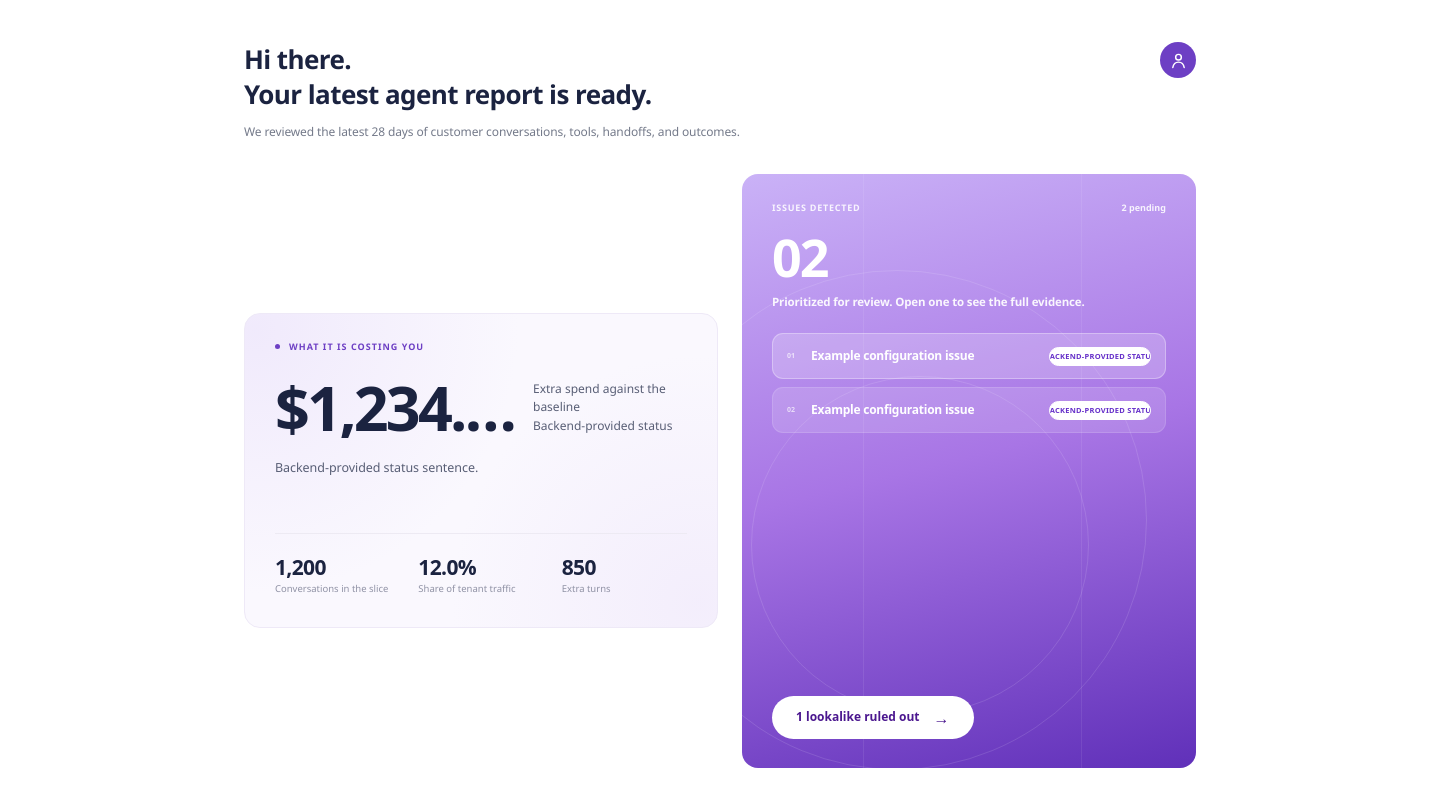
Test case: Nexus Loop overview › keeps manager details quiet until their info controls are opened
Click the button with aria-label "Responses take too many turns": click(969, 356) top-left (772, 333), bottom-right (1166, 379)
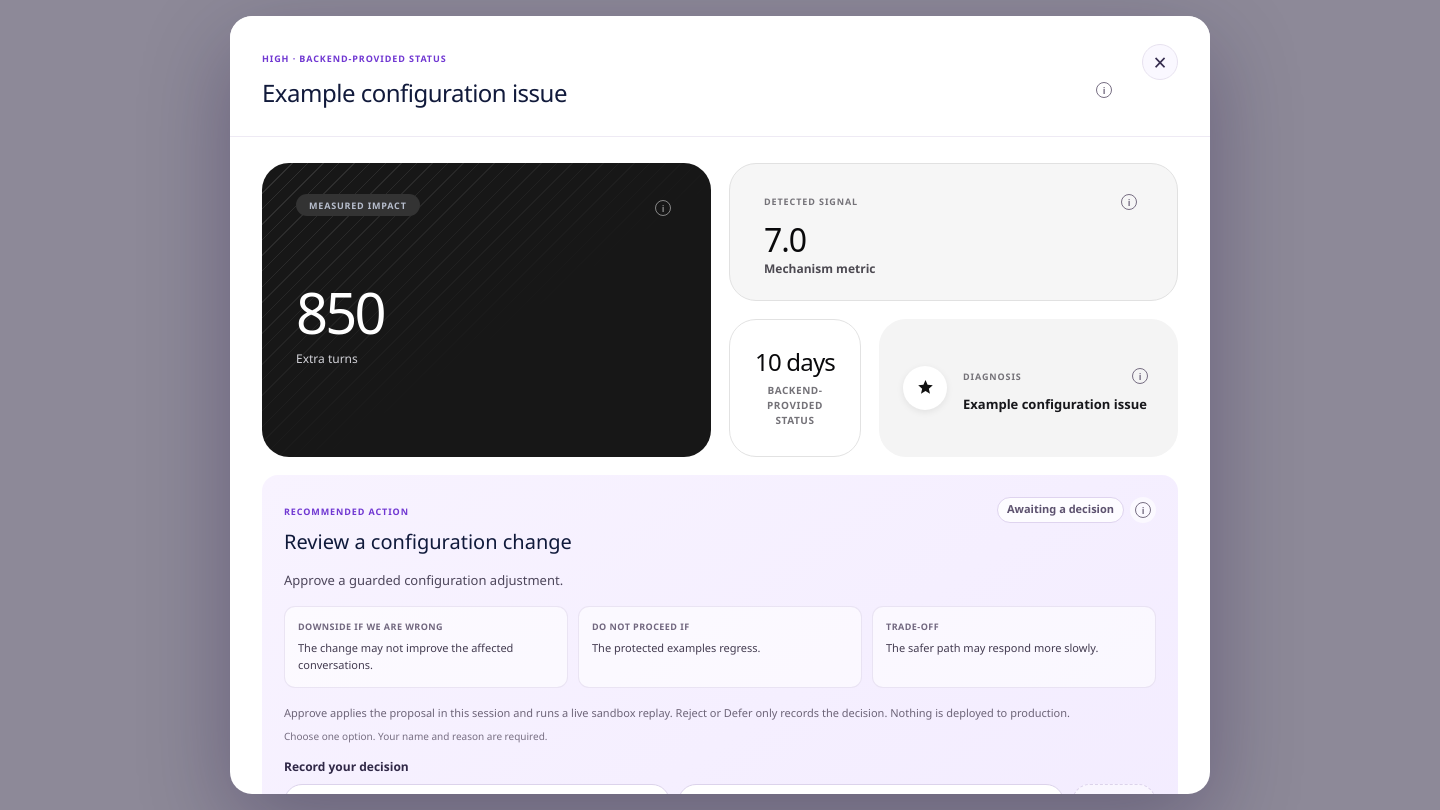
Click the button named "Issue context": click(1104, 90) top-left (1090, 76), bottom-right (1118, 104)
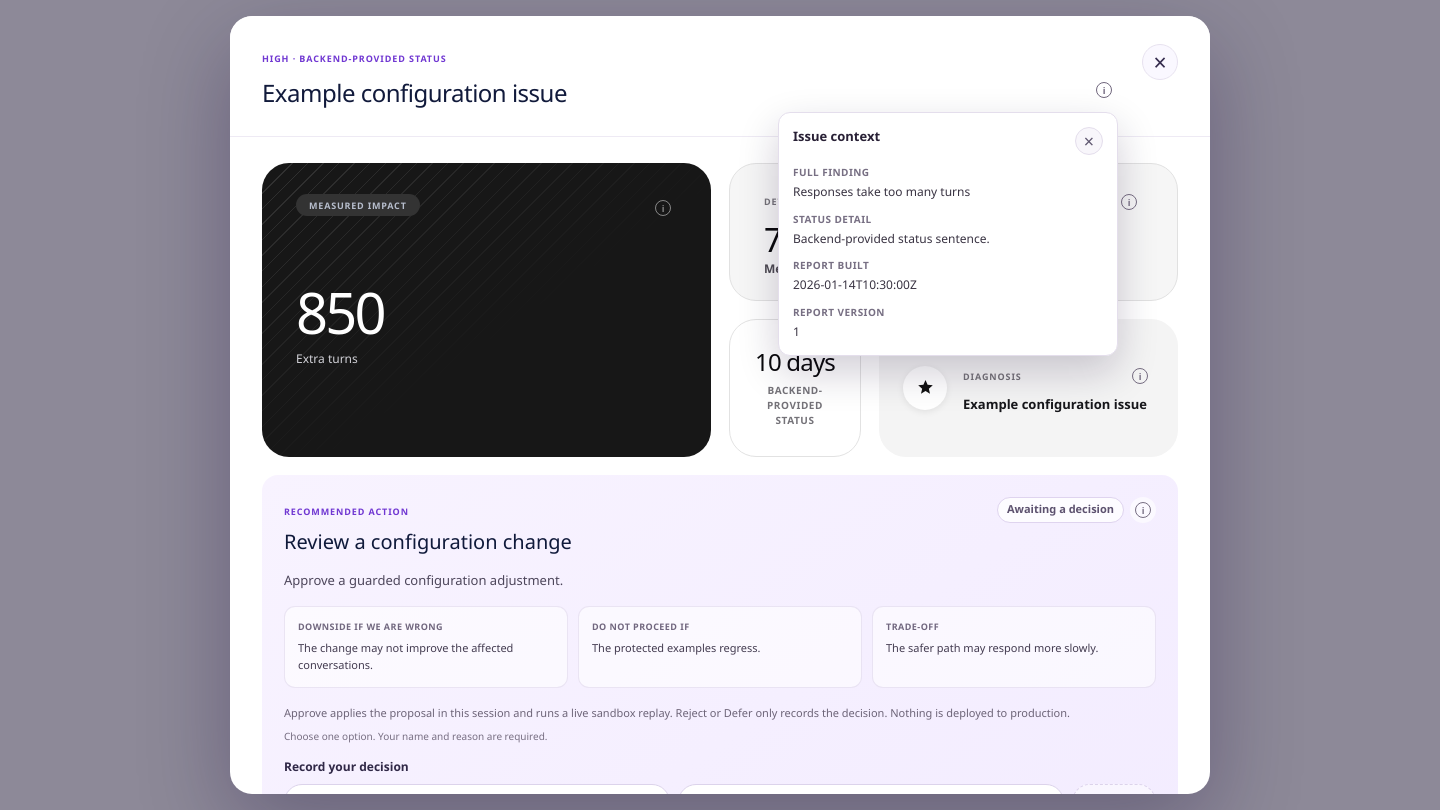
Expected: the text "Approve a guarded configuration adjustment." is shown, top-left (284, 571), bottom-right (563, 589)
Expected: the text "The change may not improve the affected conversations." is shown, top-left (298, 641), bottom-right (513, 673)
Expected: the text "Responses take too many turns" is shown, top-left (793, 183), bottom-right (970, 200)
Click the button named "Proposal technical details": click(1143, 510) top-left (1130, 497), bottom-right (1156, 523)
(page scrolled)
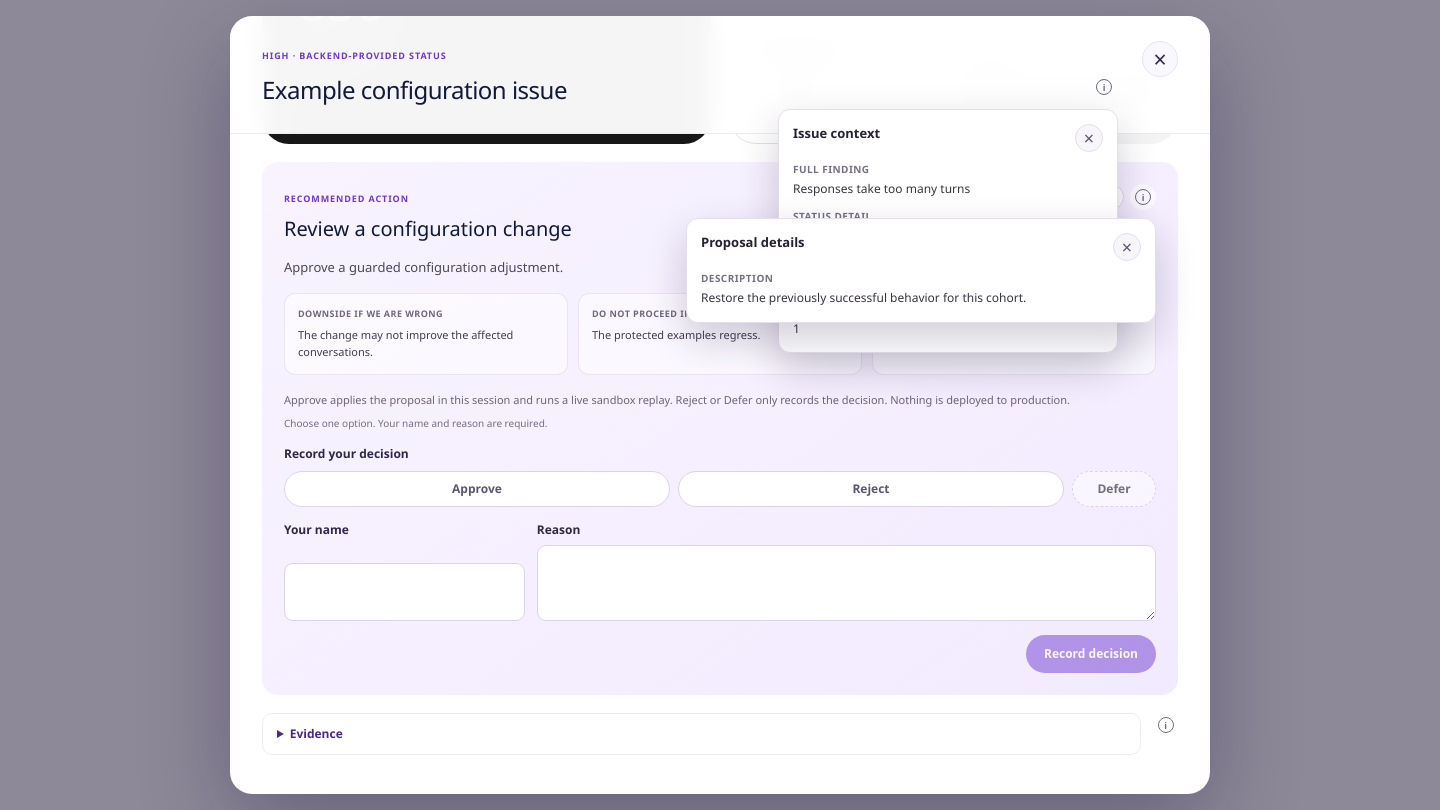
Expected: the button named "Proposal technical details" is expanded, top-left (1130, 184), bottom-right (1156, 210)
Expected: the text "Restore the previously successful behavior for this cohort." is shown, top-left (701, 289), bottom-right (1026, 306)
